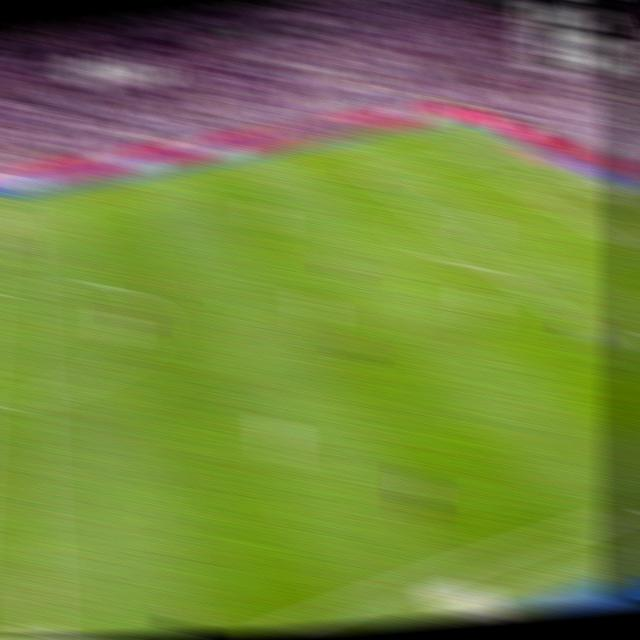bigarea_bottom_inner: (587, 330, 618, 355)
bigarea_top_inner: (359, 168, 385, 183)
bigarea_top_outter: (492, 141, 515, 154)
bottom_arc_area_intersection: (485, 259, 514, 278)
corner: (435, 115, 460, 127)
halfcircle_bottom: (12, 383, 45, 414)
halfcircle_top: (4, 274, 37, 303)
midline_top_intersection: (0, 190, 29, 208)
smallarea_top_inner: (503, 179, 528, 192)
top_arc_area_intersection: (407, 202, 436, 221)
